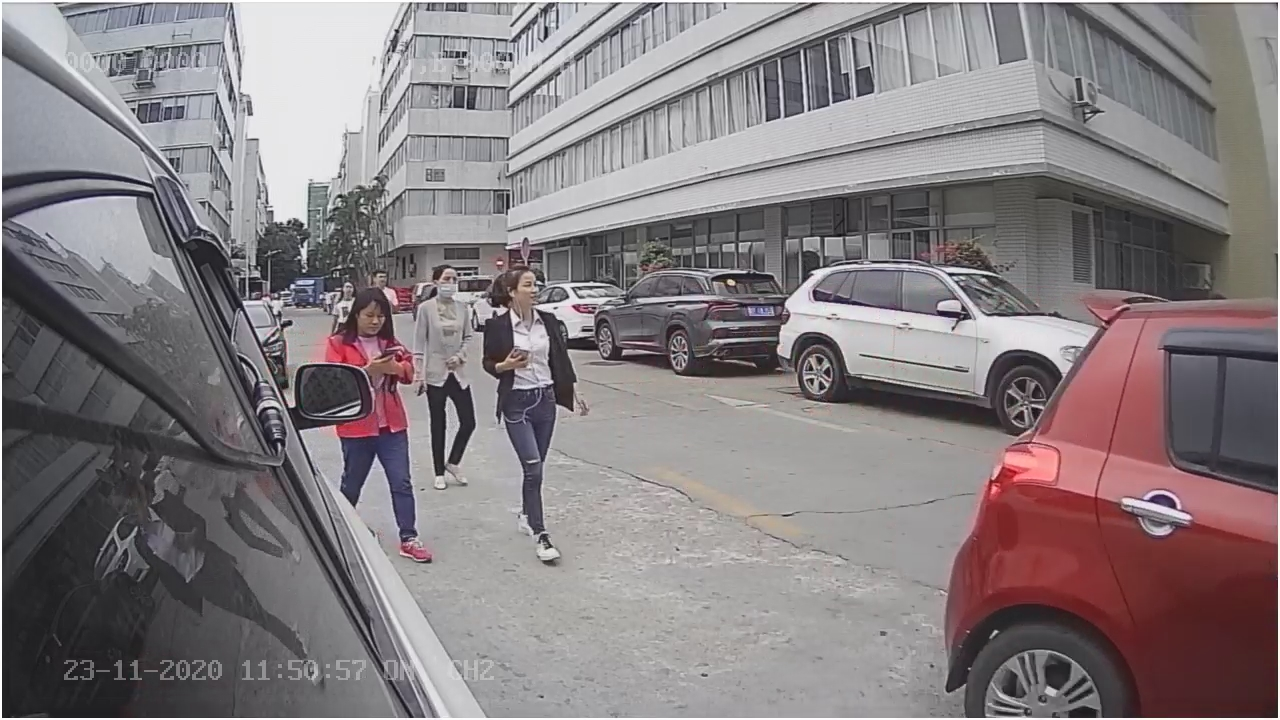person: (479, 270, 588, 561)
